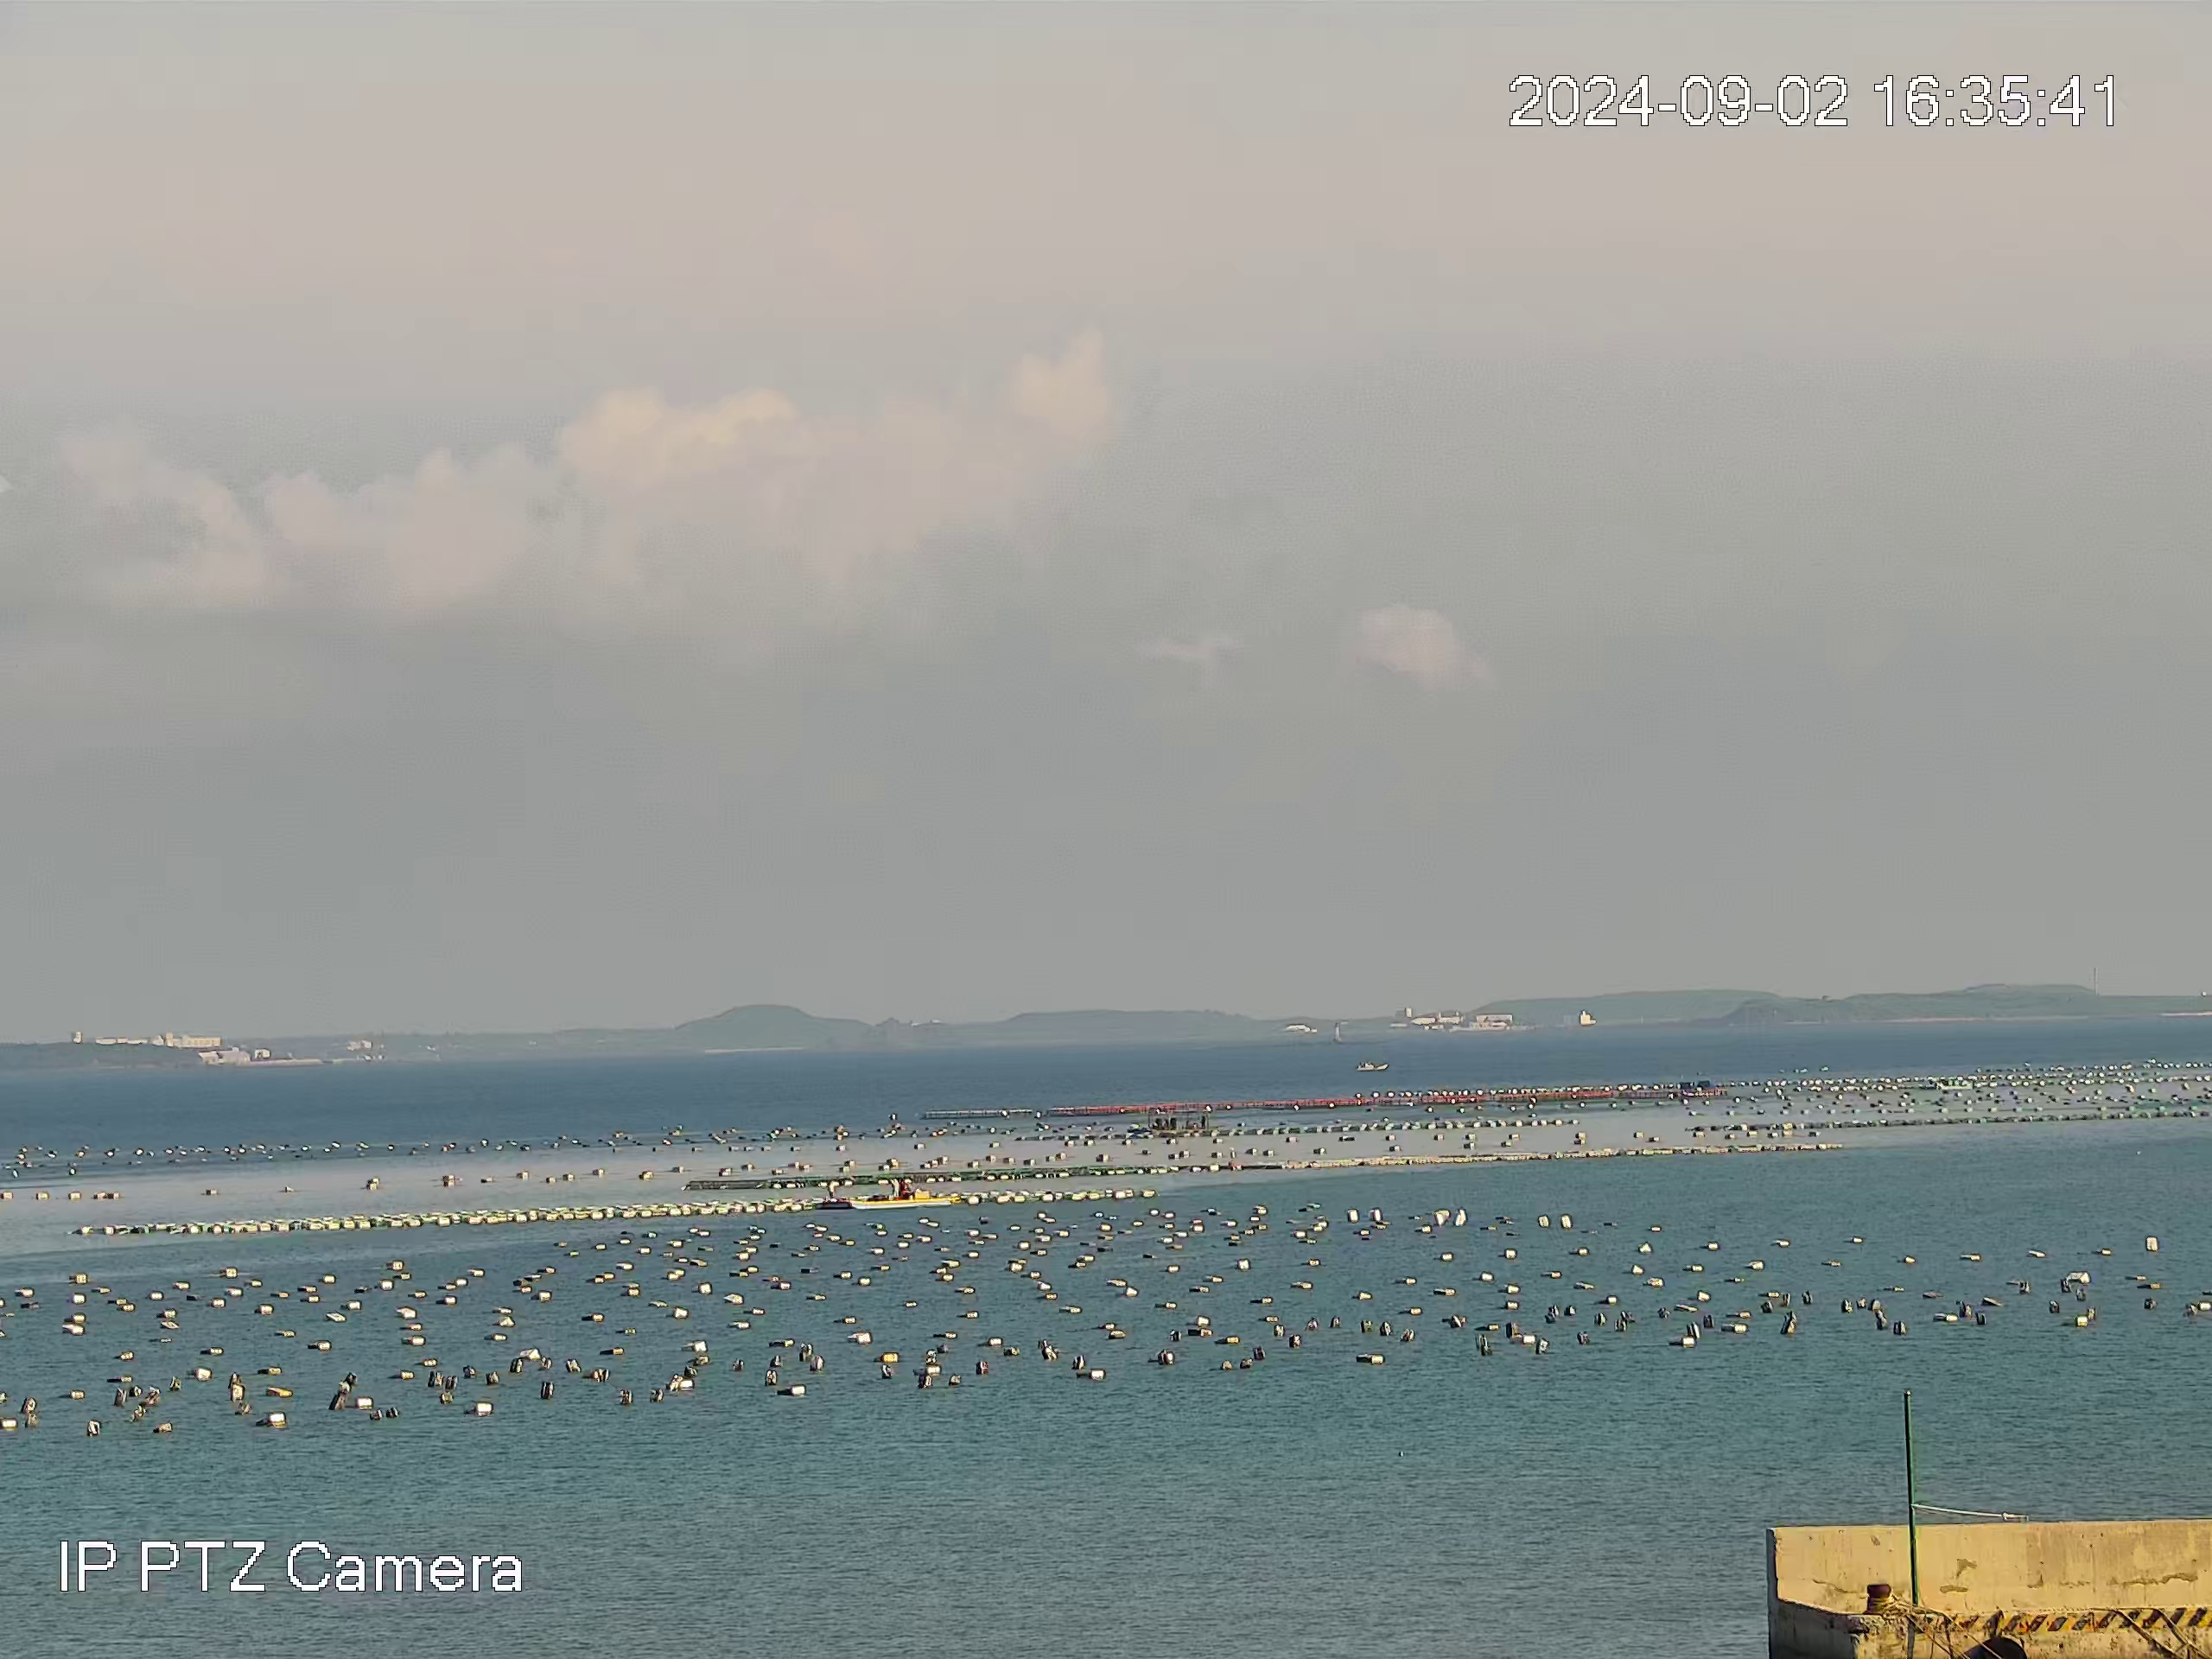boat: (846, 1178, 961, 1209), (1146, 1105, 1214, 1133), (1353, 1058, 1390, 1072)
